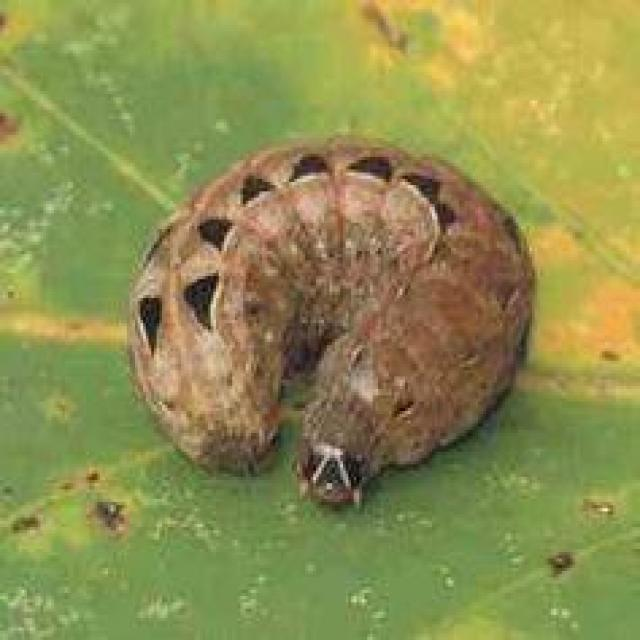BeetArmyWorm-Larva-: (105, 126, 541, 521)
